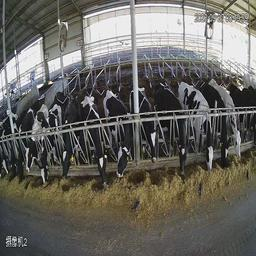cow: (178, 74, 218, 180), (156, 75, 193, 188), (103, 83, 137, 203), (200, 71, 237, 174), (213, 69, 249, 167), (78, 90, 107, 200), (133, 81, 164, 178), (57, 88, 84, 192), (38, 95, 61, 203), (26, 89, 48, 182), (8, 100, 25, 189)
